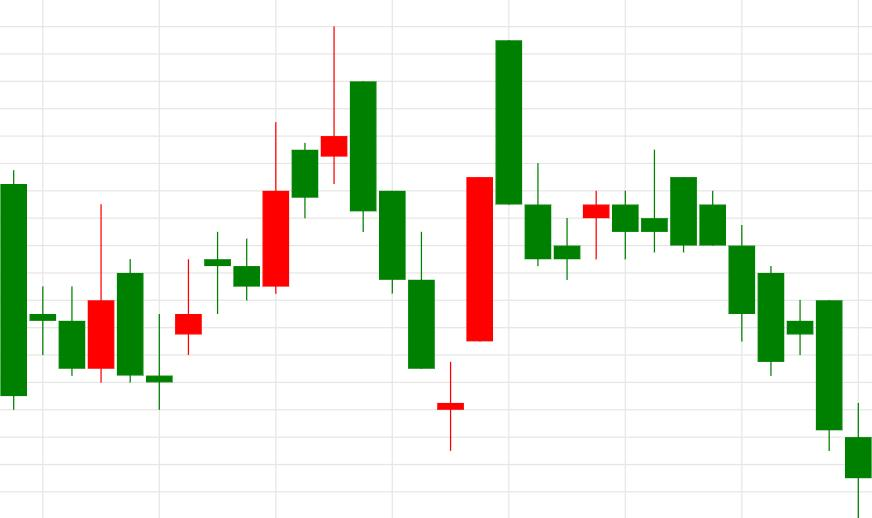three_black_crows_fall: (146, 26, 435, 410)
